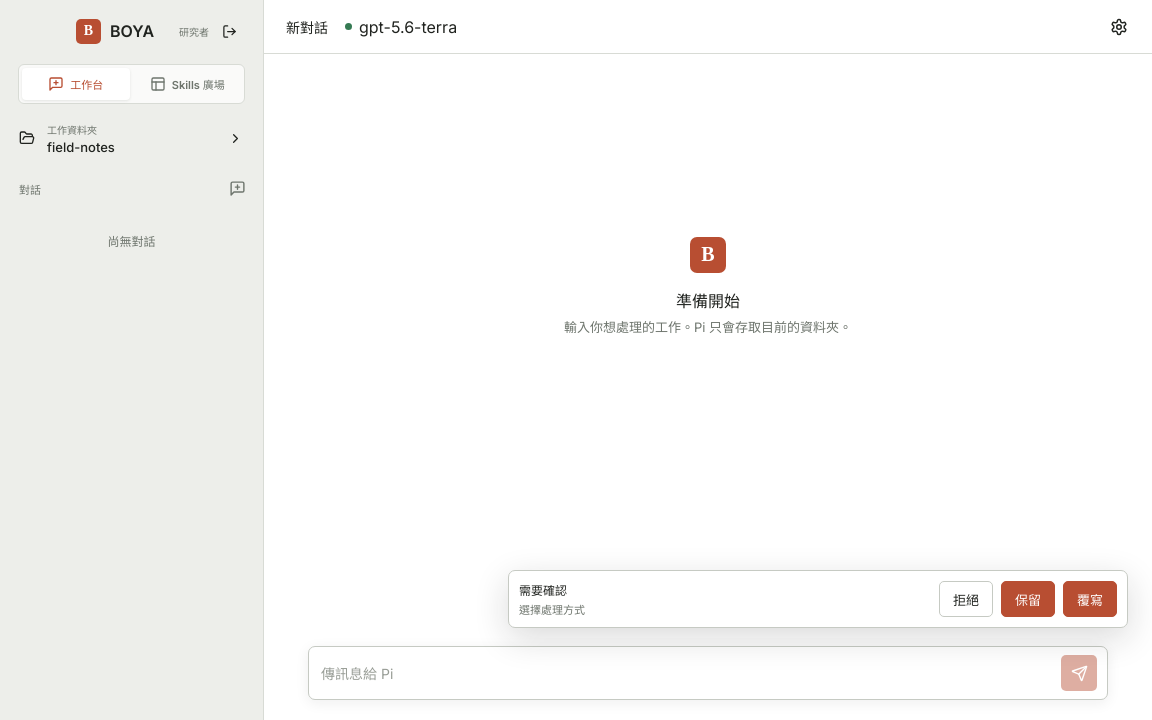
Test case: BOYA Desktop › returns the selected value for Pi select approvals
Expected: the text "尚無對話" is shown, [108, 234, 156, 249]
Step 1. Click the button "覆寫" → x=1090, y=599, box [1063, 581, 1117, 617]
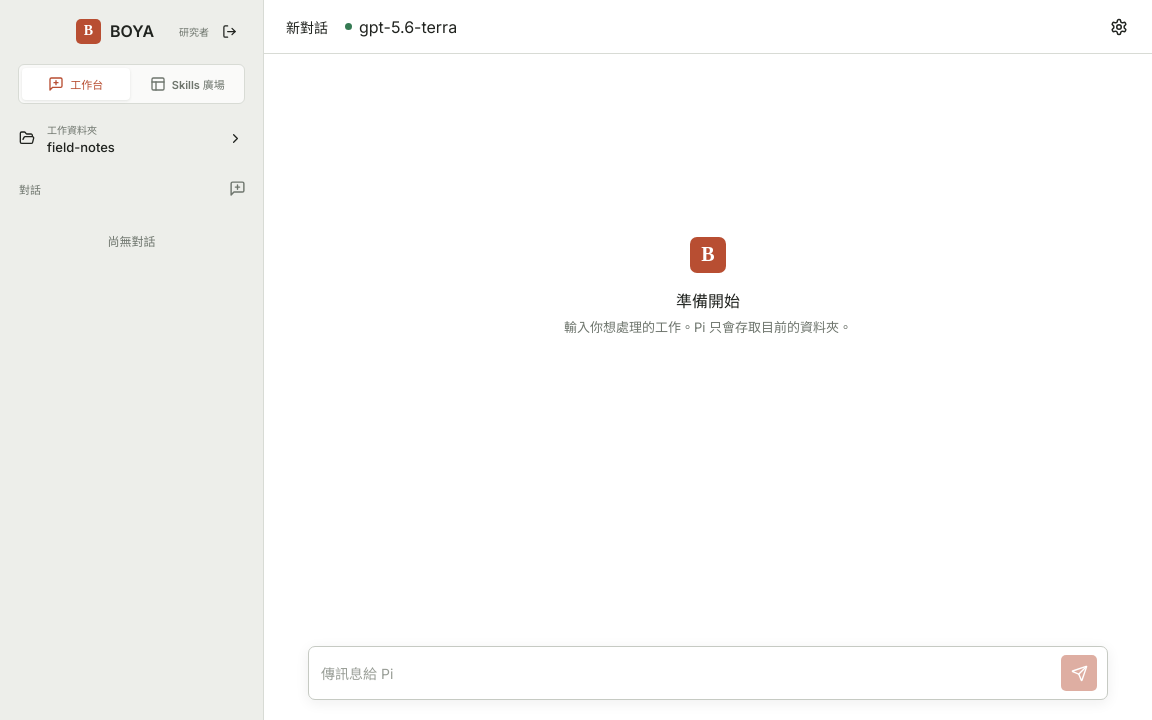
Now the text "選擇處理方式" is gone
